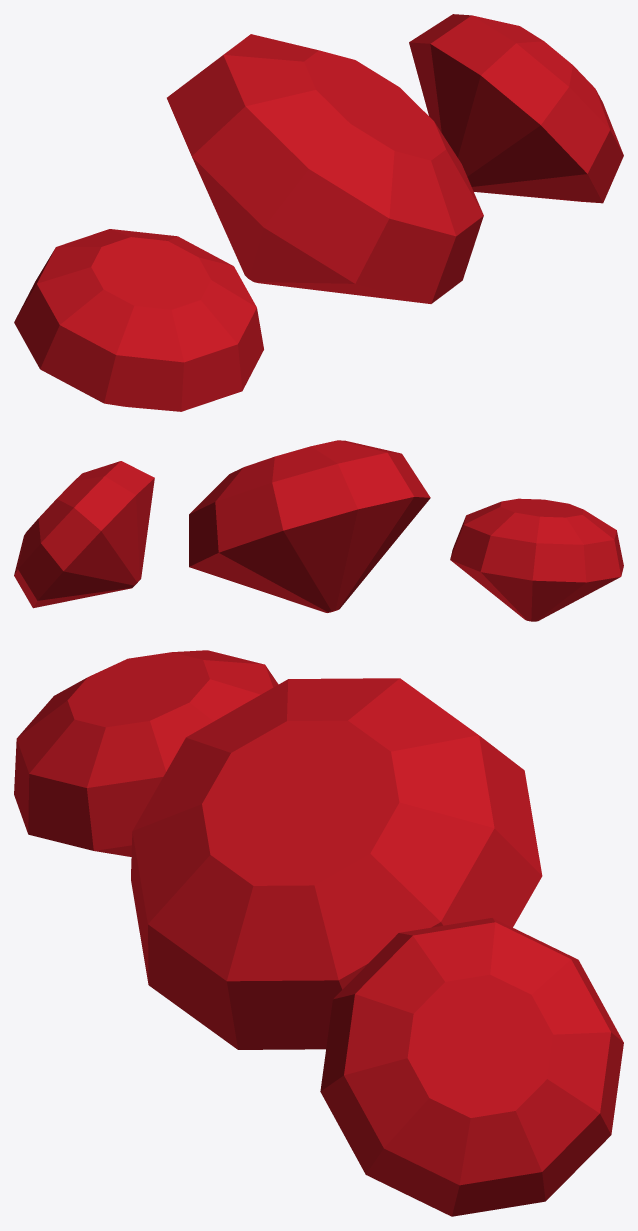
The picture shows the model from 3 angles, top to bottom: view 1: azimuth 30°, elevation 25°; view 2: azimuth 150°, elevation 25°; view 3: azimuth 270°, elevation 25°; orthographic projection. The views are drawn at different scales.
Visible parts, largest first — view 1: TI028 / individually faceted stone 1, TI028 / individually faceted stone 0, TI028 / individually faceted stone 2; view 2: TI028 / individually faceted stone 1, TI028 / individually faceted stone 0, TI028 / individually faceted stone 2; view 3: TI028 / individually faceted stone 1, TI028 / individually faceted stone 2, TI028 / individually faceted stone 0.
Part boxes in pixels (<box>): TI028 / individually faceted stone 1: <box>167,34,483,303</box>; TI028 / individually faceted stone 0: <box>14,229,263,411</box>; TI028 / individually faceted stone 2: <box>409,14,623,203</box>; TI028 / individually faceted stone 1: <box>189,440,430,612</box>; TI028 / individually faceted stone 0: <box>450,498,623,621</box>; TI028 / individually faceted stone 2: <box>14,461,154,608</box>; TI028 / individually faceted stone 1: <box>131,678,542,1049</box>; TI028 / individually faceted stone 2: <box>320,918,623,1216</box>; TI028 / individually faceted stone 0: <box>14,650,278,856</box>.
Bounding box in the file's own units: 2.54 × 0.8889 × 1.57.
